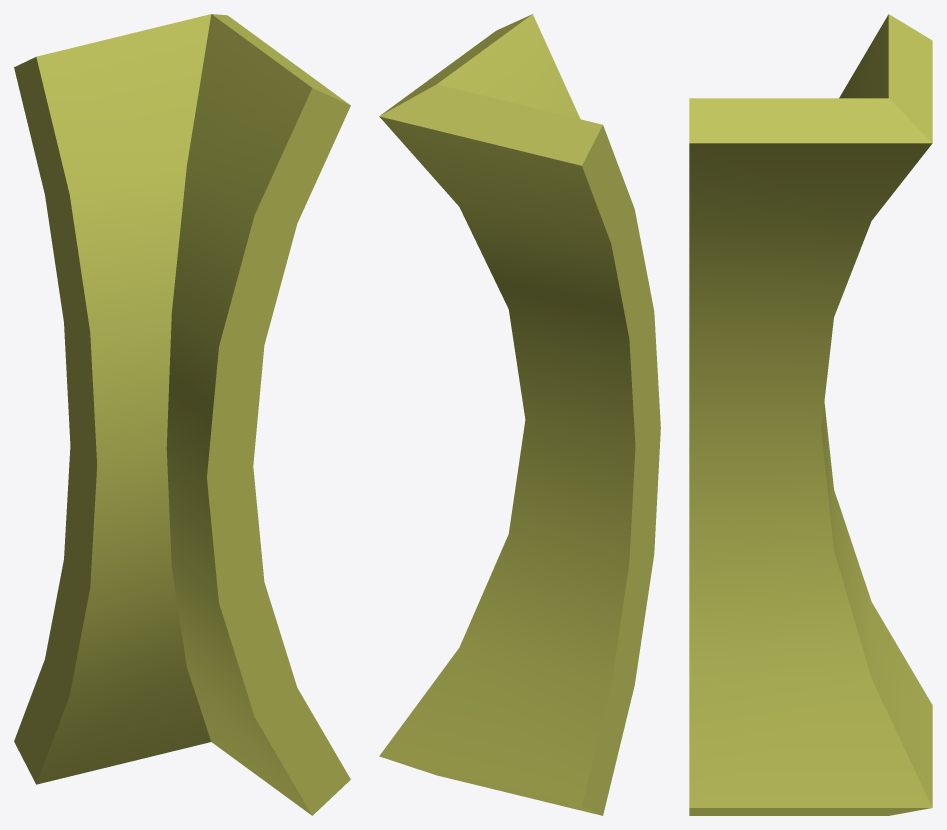
The model's file is RoundCorr_Wall_CornerInSmall_A.FBX.
3 renders of one model, left to right at view 1: azimuth 30°, elevation 25°; view 2: azimuth 150°, elevation 25°; view 3: azimuth 270°, elevation 25°, orthographic. The views are drawn at different scales.
Parts seen in each view (by area): view 1: RoundCorr_Wall_CornerInSmall_A; view 2: RoundCorr_Wall_CornerInSmall_A; view 3: RoundCorr_Wall_CornerInSmall_A.
Part boxes in pixels (x1,y1,x2,y2): RoundCorr_Wall_CornerInSmall_A: [14, 14, 350, 815]; RoundCorr_Wall_CornerInSmall_A: [379, 14, 660, 815]; RoundCorr_Wall_CornerInSmall_A: [689, 14, 932, 815].
Bounding box in the file's own units: 92.13 × 300 × 92.13.
